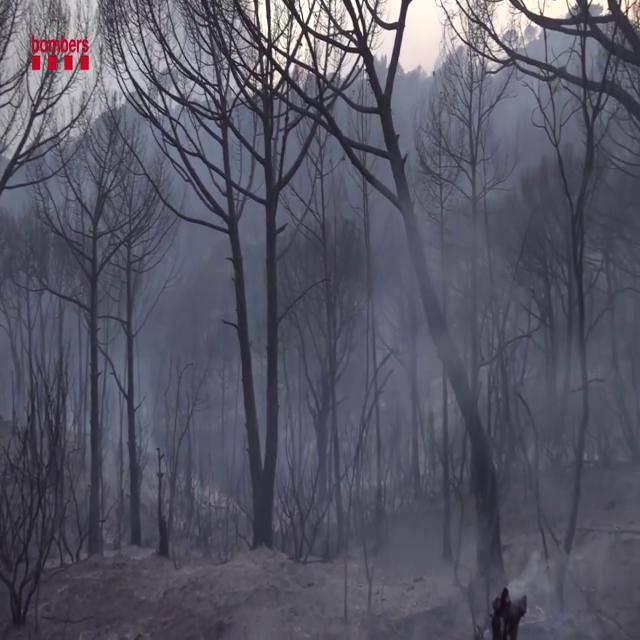Smoke: (21, 33, 634, 609)
